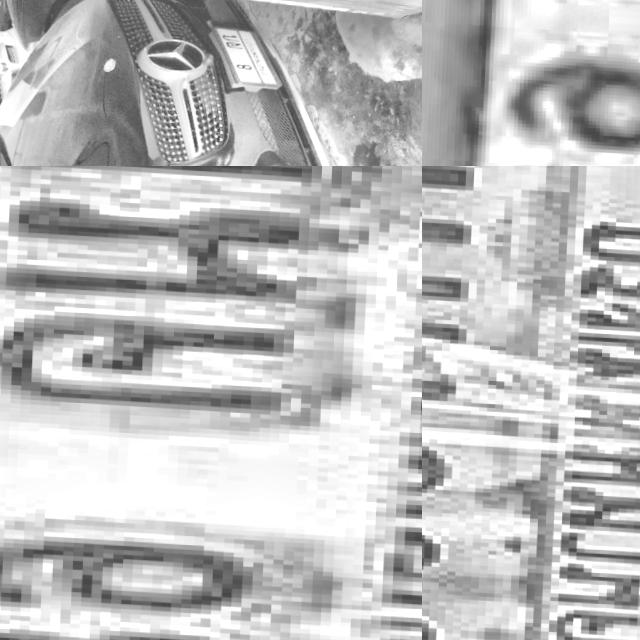license-plate: (0, 166, 422, 640), (422, 166, 640, 640), (422, 0, 640, 166), (206, 21, 284, 88)
